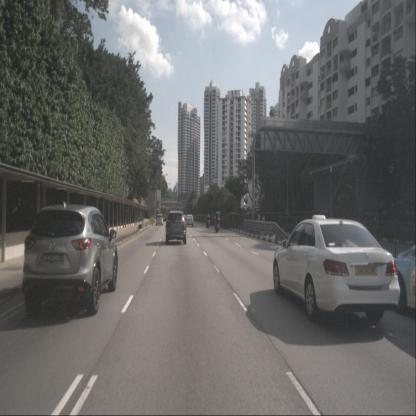human-pedestrian-adult: (270, 214, 274, 230)
vehicle-car: (273, 217, 400, 323), (22, 203, 118, 315), (388, 243, 415, 315), (166, 210, 186, 244), (186, 214, 194, 226), (156, 214, 163, 225)
vehicle-motorcycle: (214, 212, 220, 233), (206, 211, 210, 228)
